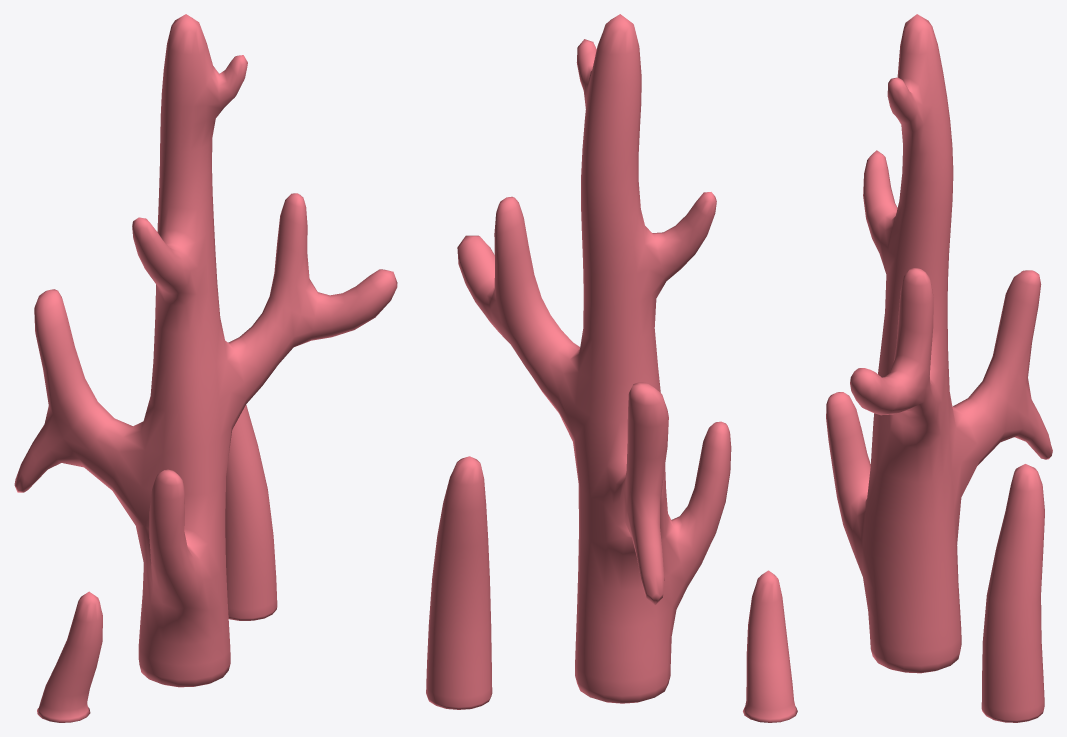
The model's file is Coral_B_01.fbx.
3 renders of one model, left to right at view 1: azimuth 30°, elevation 25°; view 2: azimuth 150°, elevation 25°; view 3: azimuth 270°, elevation 25°, orthographic. The views are drawn at different scales.
Parts seen in each view (by area): view 1: Coral_B_01_LOD0; view 2: Coral_B_01_LOD0; view 3: Coral_B_01_LOD0.
Boxes of the visible parts, x1,y1,x2,y2 form: Coral_B_01_LOD0: [14, 14, 397, 722]; Coral_B_01_LOD0: [426, 14, 797, 722]; Coral_B_01_LOD0: [826, 14, 1052, 722].
Size of what is drawn, in the model's own units: 545 by 1003 by 320.
